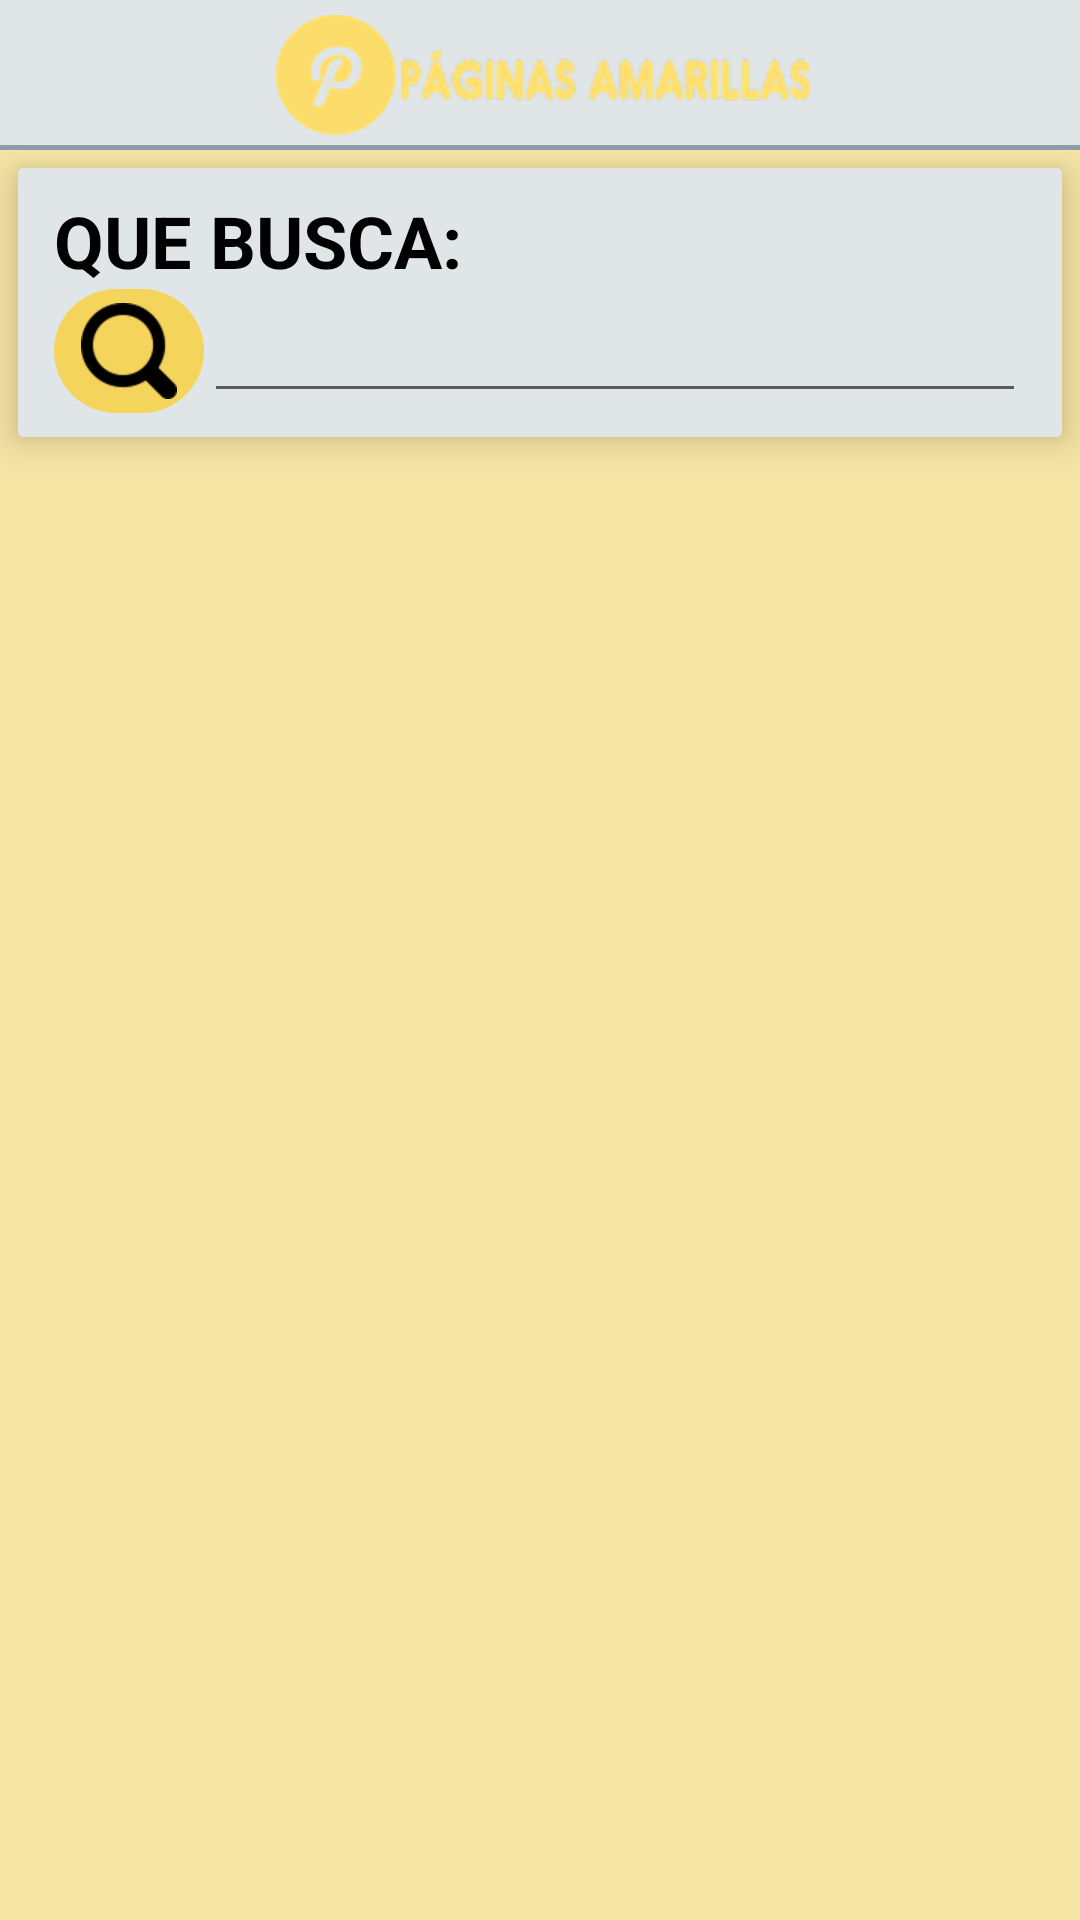

Icons on this 1080 x 1920 Android screen, each with the point to tap as [x,y]:
busqueda: [129,351]
